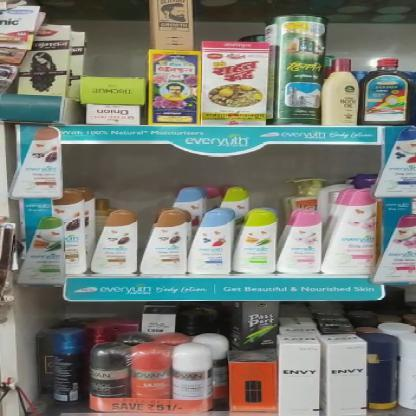Everyuth Naturals Body Lotion Nourishing Cocoa 200ml: (86, 206, 138, 276), (140, 207, 188, 277)
Everyuth Naturals Body Lotion Rejuvenating Flora 200ml: (326, 186, 381, 278), (278, 208, 327, 277)
Everyuth Naturals Body Lotion Soothing Citrus 200ml: (237, 205, 286, 273)
Everyuth Naturals Body Lotion Sun Care Berries SPF 15 200ml: (190, 206, 238, 276)
